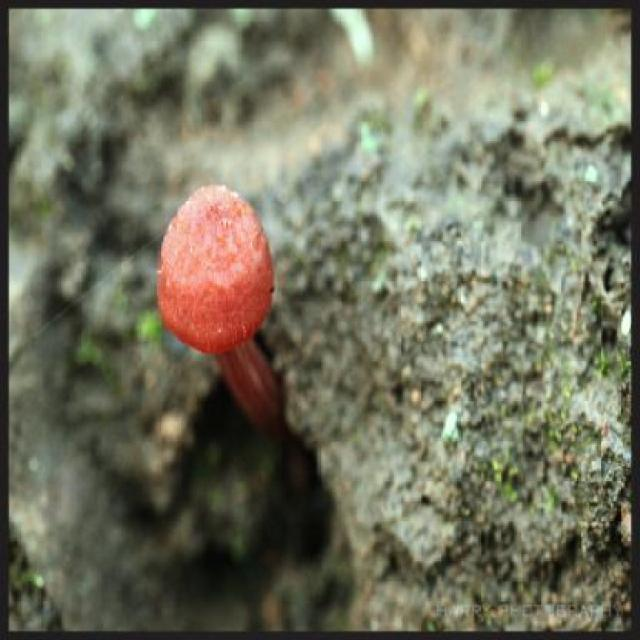Mushroom: (156, 229, 275, 457)
